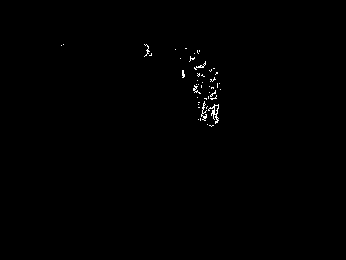person: (193, 59, 220, 129)
